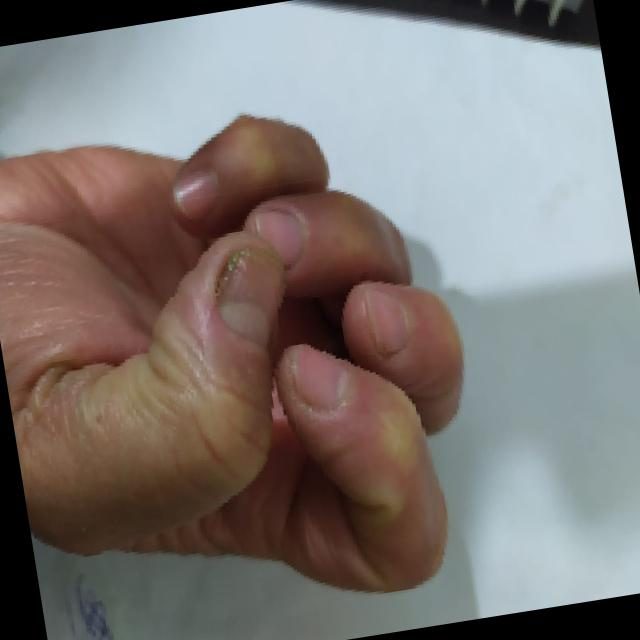Nail: (215, 247, 285, 348), (293, 345, 348, 411), (363, 286, 407, 355), (254, 211, 303, 267), (172, 170, 218, 220)
